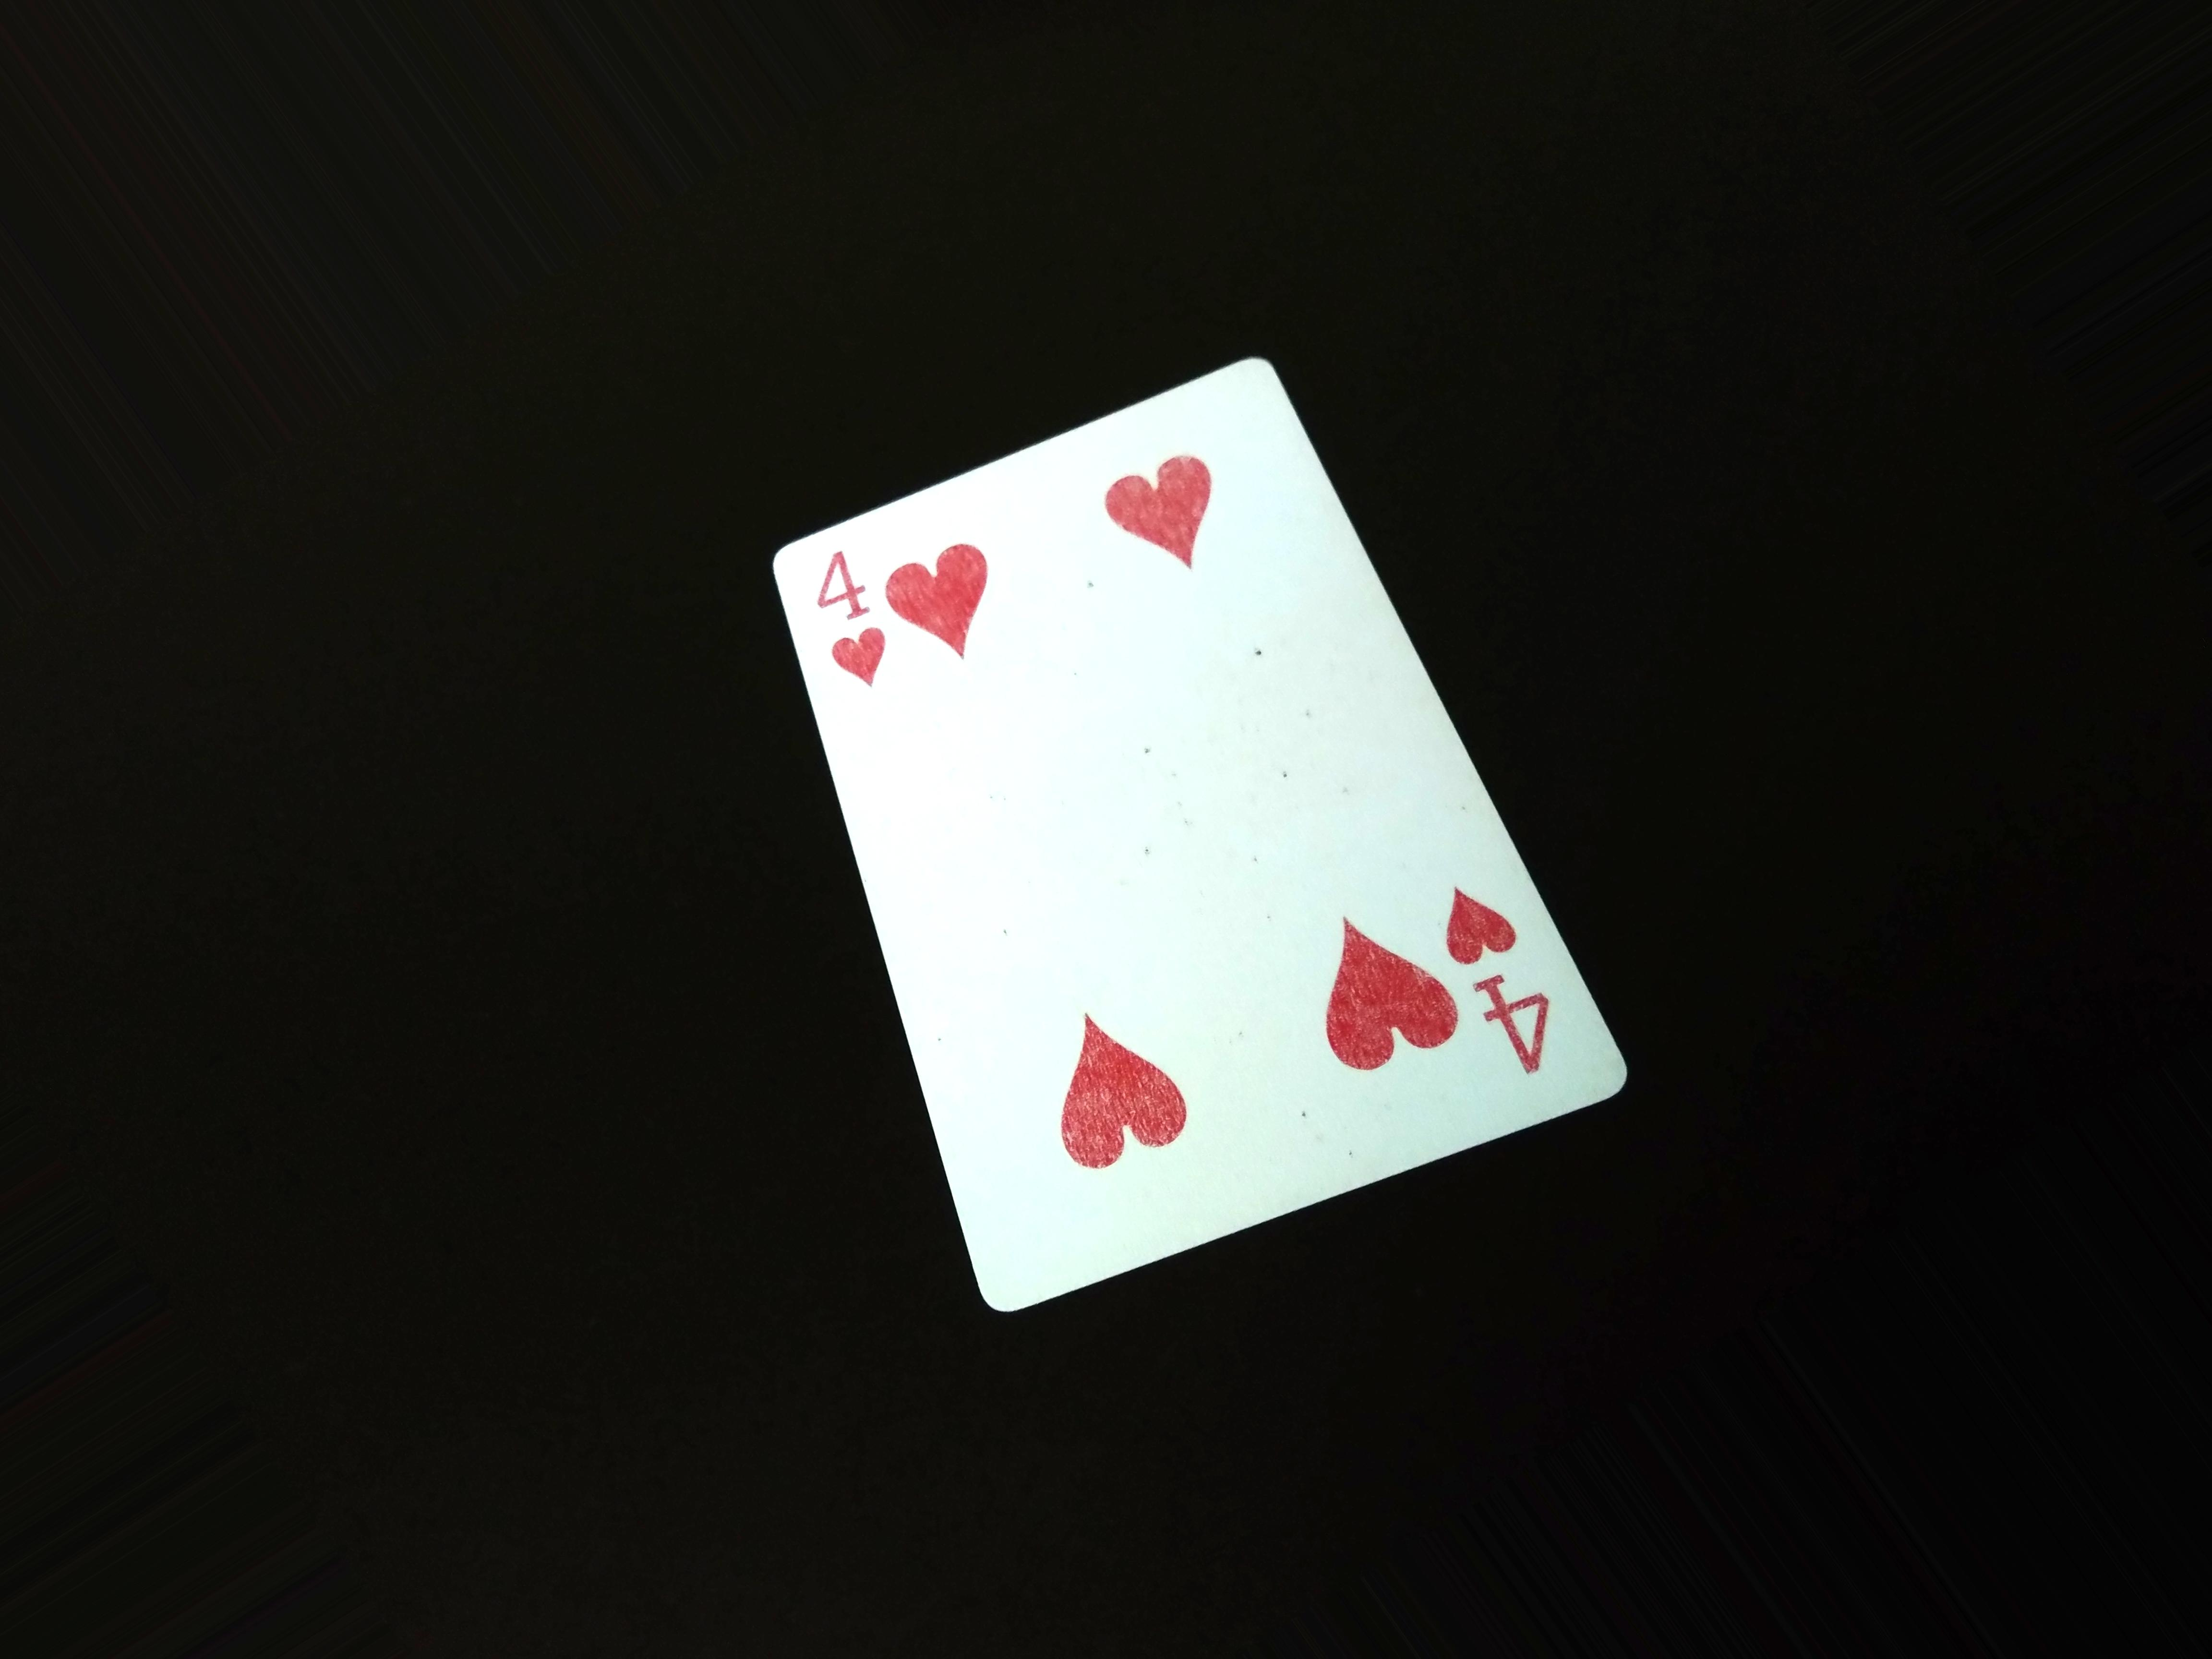4H: (813, 538, 899, 694)
